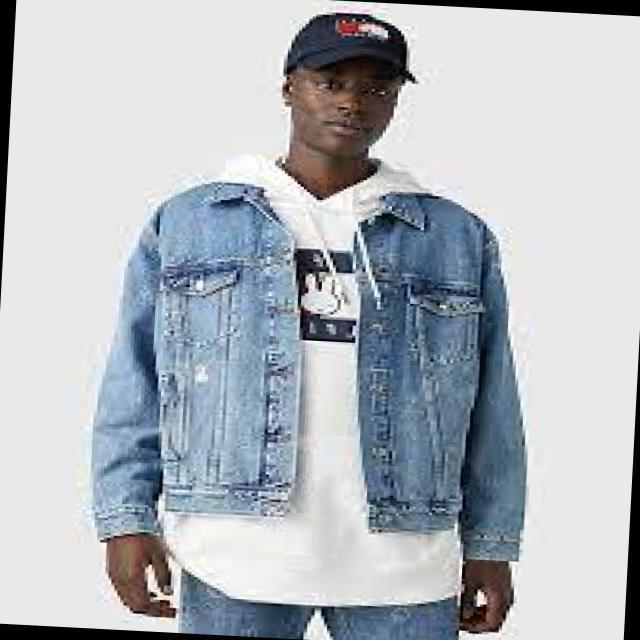jacket: (92, 181, 531, 564)
sweater: (154, 153, 462, 608)
trousers: (174, 568, 465, 640)
